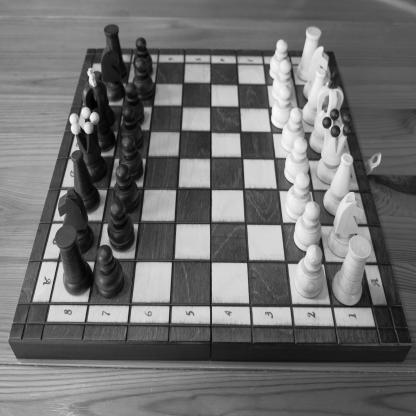black-bishop: (66, 148, 102, 212)
black-king: (81, 66, 115, 152)
black-knight: (57, 186, 96, 246), (101, 46, 124, 98)
black-pawn: (93, 243, 126, 298), (107, 199, 136, 250), (112, 164, 141, 212), (116, 135, 144, 180), (117, 104, 143, 151), (131, 58, 156, 99), (127, 80, 150, 124), (133, 36, 154, 71)
black-queen: (69, 105, 107, 181)
black-rook: (55, 227, 92, 296), (102, 22, 128, 76)
white-bishop: (323, 150, 357, 220), (302, 66, 327, 128)
white-king: (310, 68, 344, 154)
white-knight: (328, 192, 367, 260), (303, 46, 330, 98)
white-pawn: (294, 246, 326, 299), (293, 199, 322, 254), (285, 170, 312, 220), (280, 107, 306, 156), (285, 137, 311, 185), (271, 83, 294, 130), (269, 38, 292, 79), (272, 60, 294, 98)
white-queen: (315, 106, 354, 185)
white-rook: (331, 234, 374, 307), (296, 21, 322, 81)
